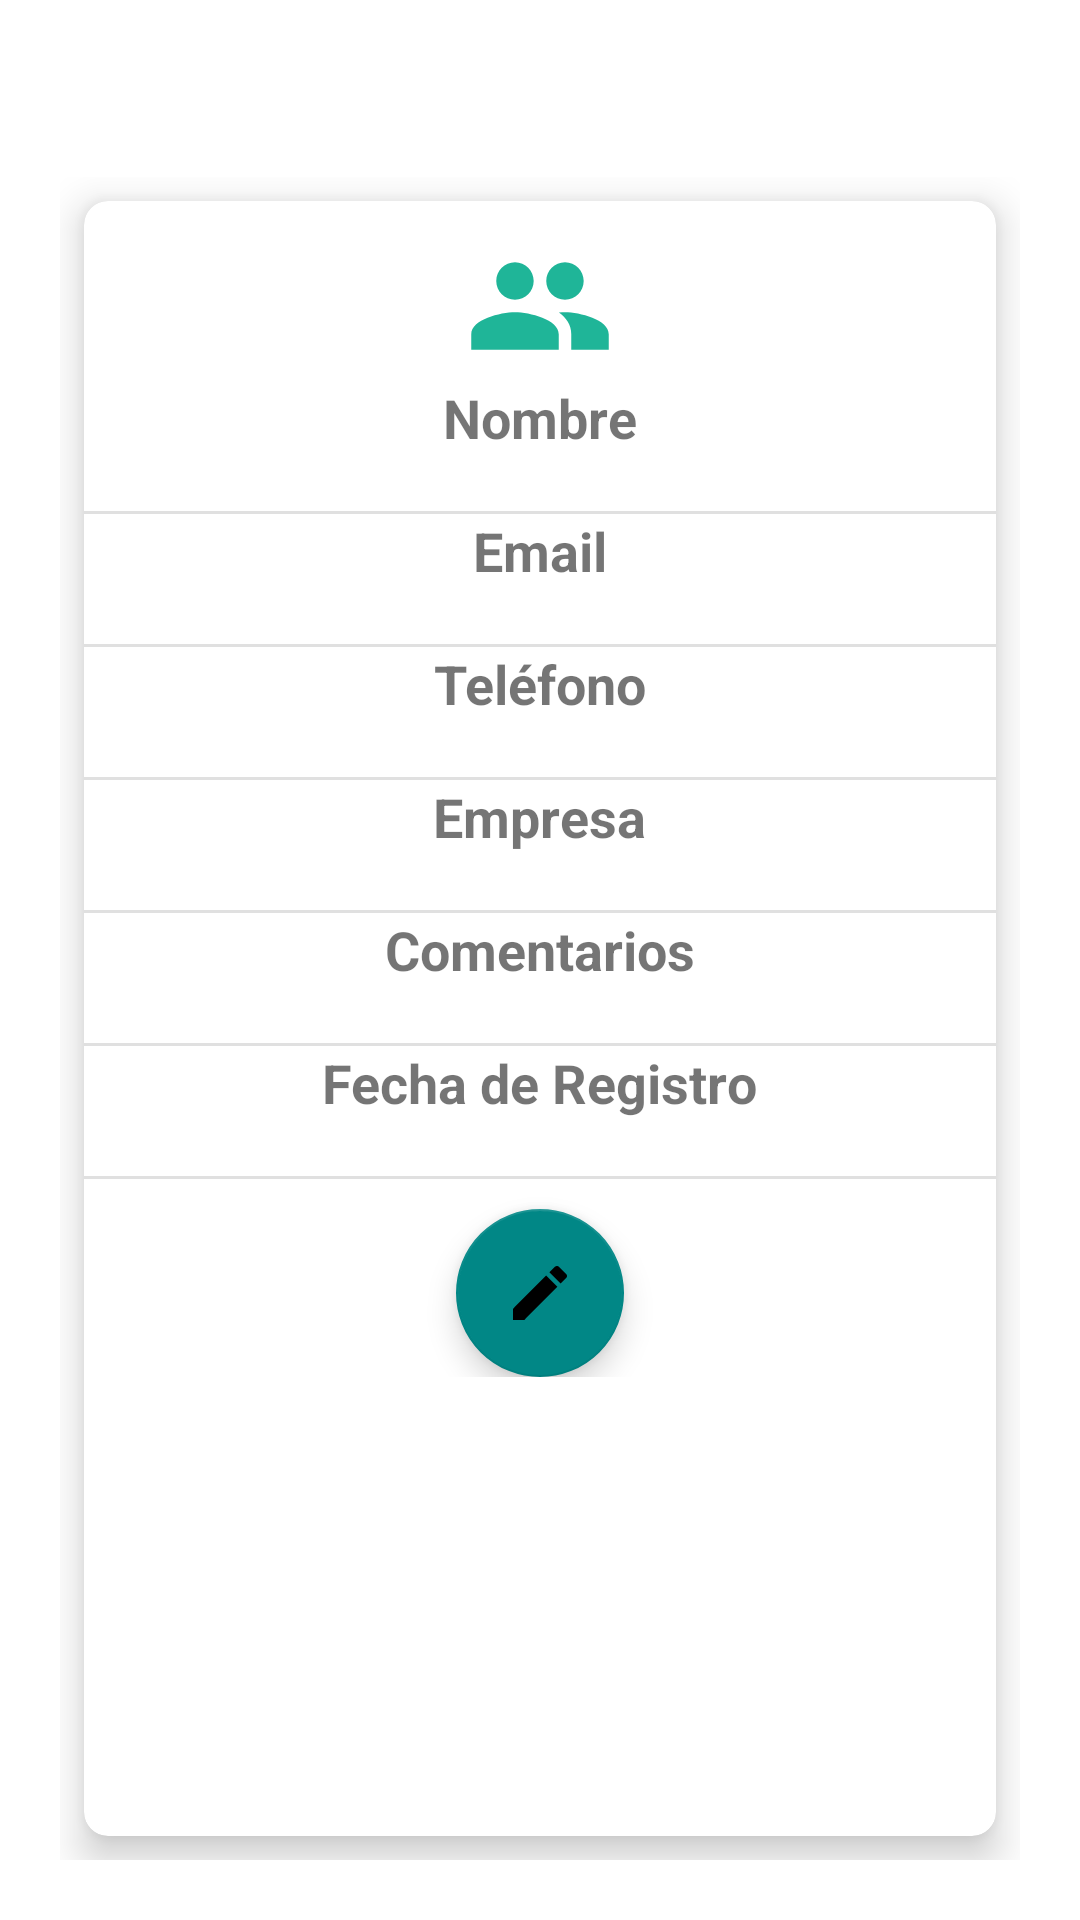

Where icons sit on this 1080×1920 app screen, as [x1, y1, x2, y2]:
edit: [456, 1209, 624, 1377]
people: [471, 262, 609, 350]
